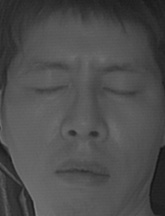blink: (26, 73, 71, 99), (101, 75, 141, 101)
mouth: (53, 150, 112, 194)
